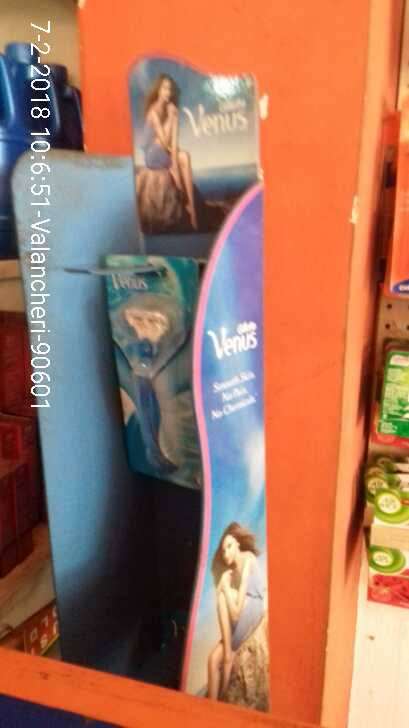venus: (104, 258, 199, 485)
